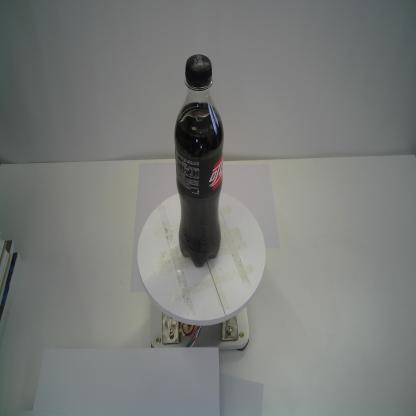Drink: (173, 52, 226, 271)
